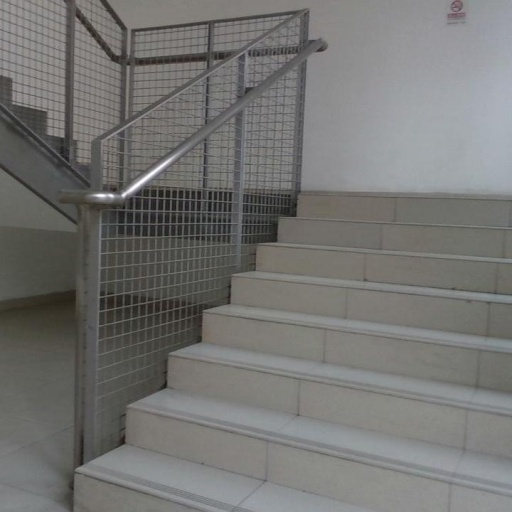Stairs: (75, 194, 512, 512)
